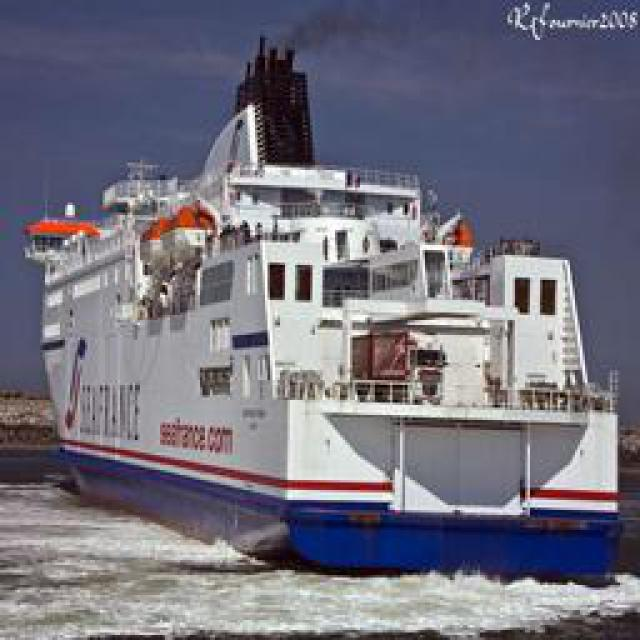Ship: (38, 32, 640, 575)
